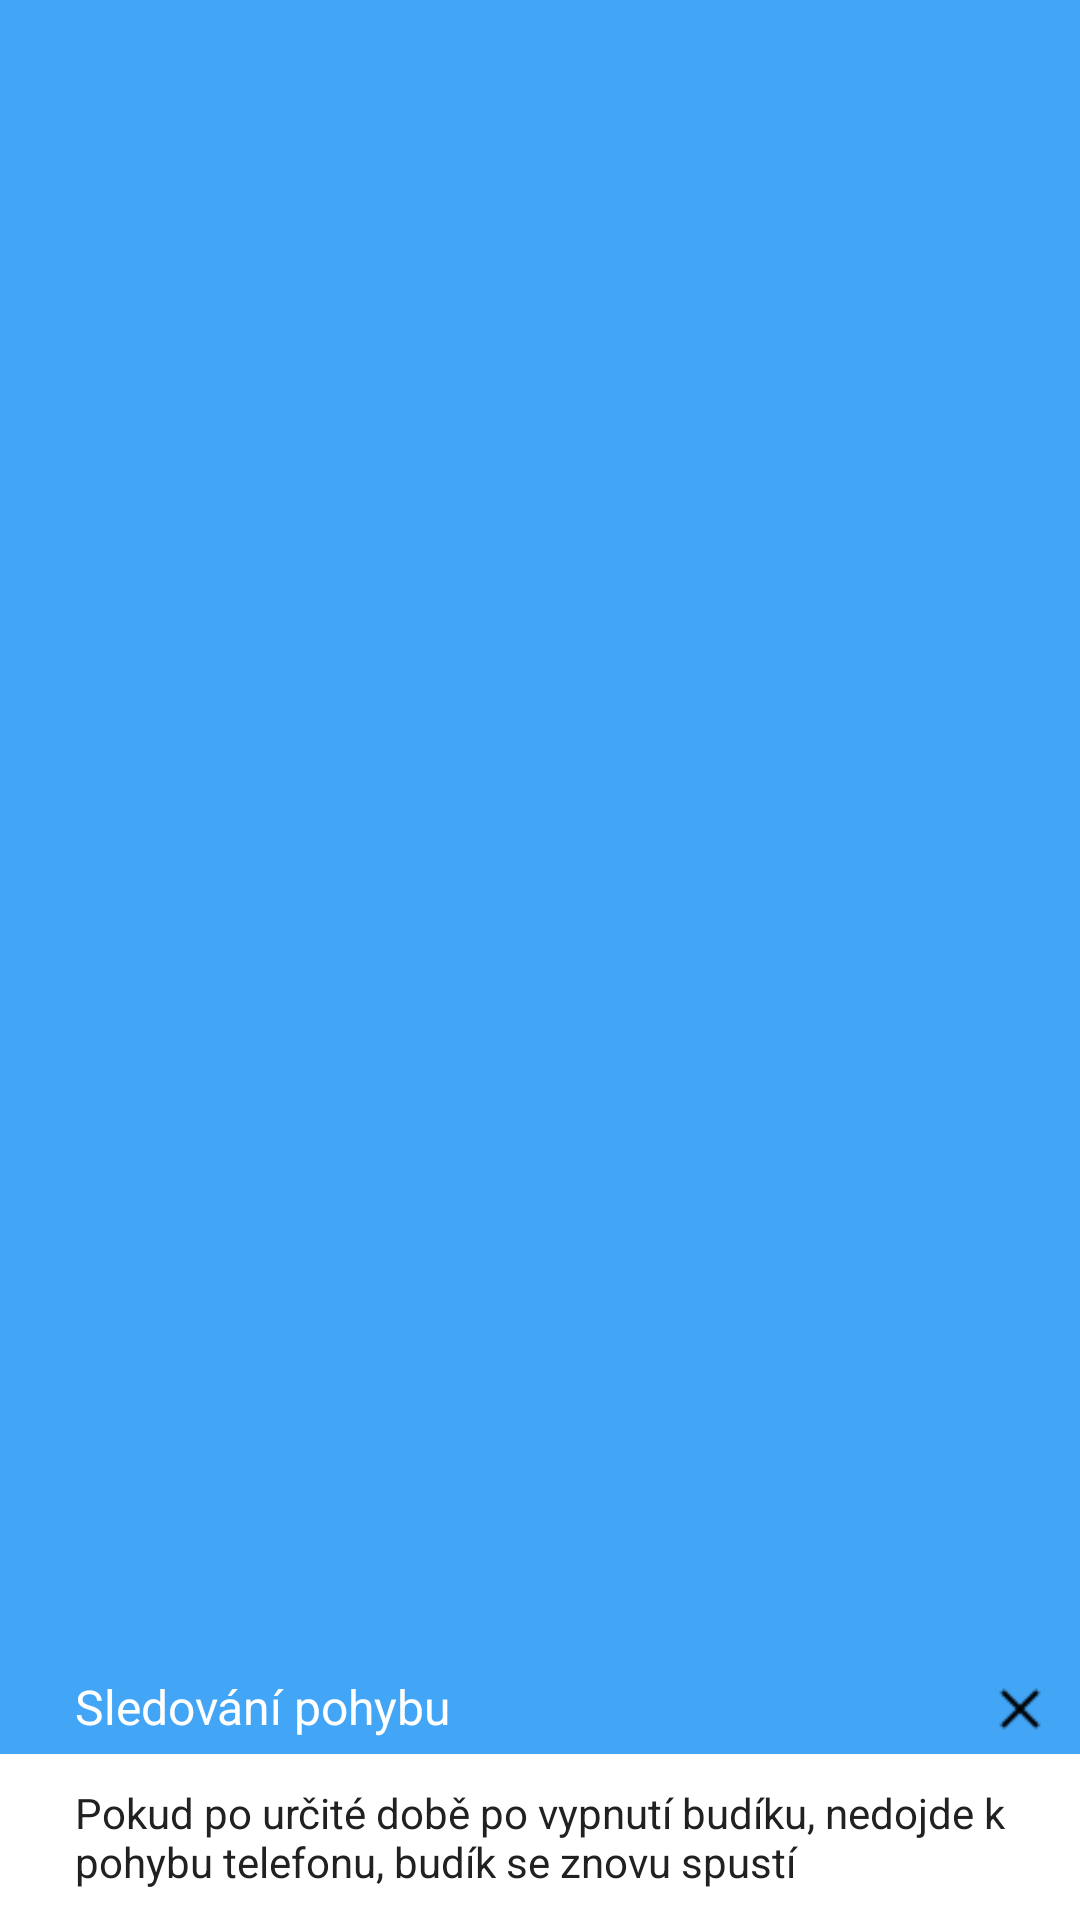

Named icons in this screenshot (1080*1920) and their centers, (x,y):
cross: (1020,1709)
